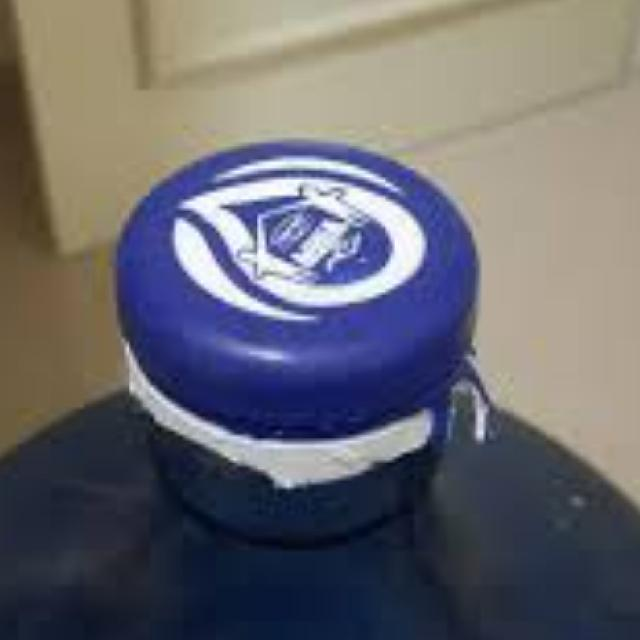TutupGalon: (0, 134, 639, 639)
